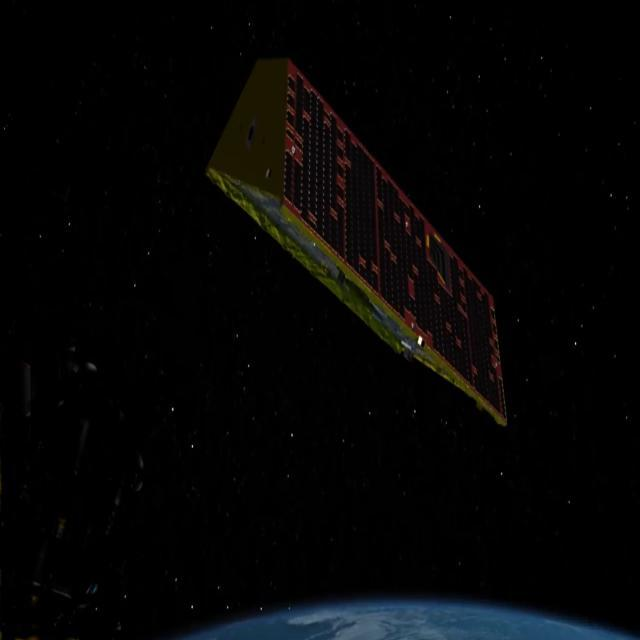sat: (183, 6, 547, 489)
